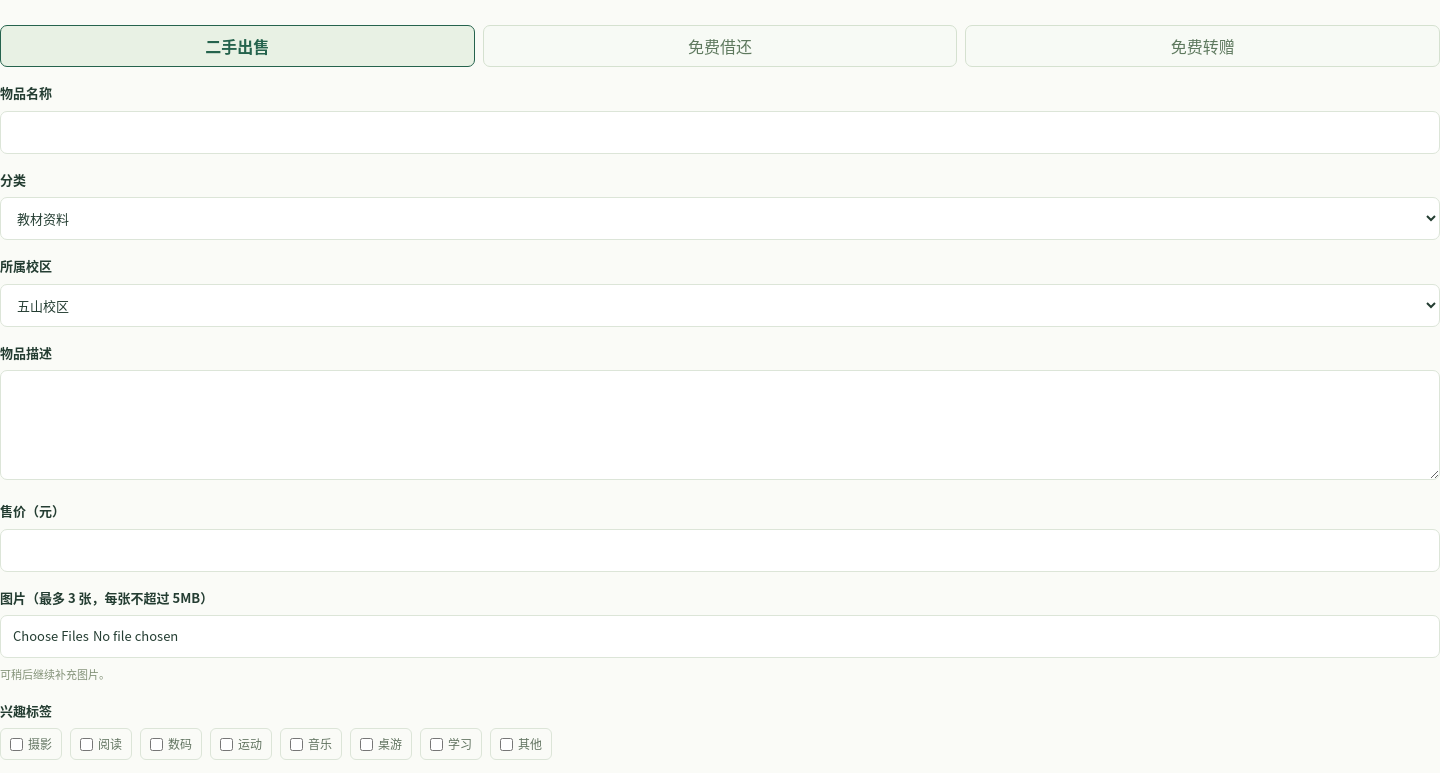
Test: Phase 2 发布表单 › 可以切换出售和免费借还，借还模式不显示租金
Expected: the number field labelled "售价（元）" is shown, [0,528,1439,572]
What coordinates should you click on to do the following:
click the button "免费借还"
I would click on:
 (720, 46)
Its box is [483,25,957,67].
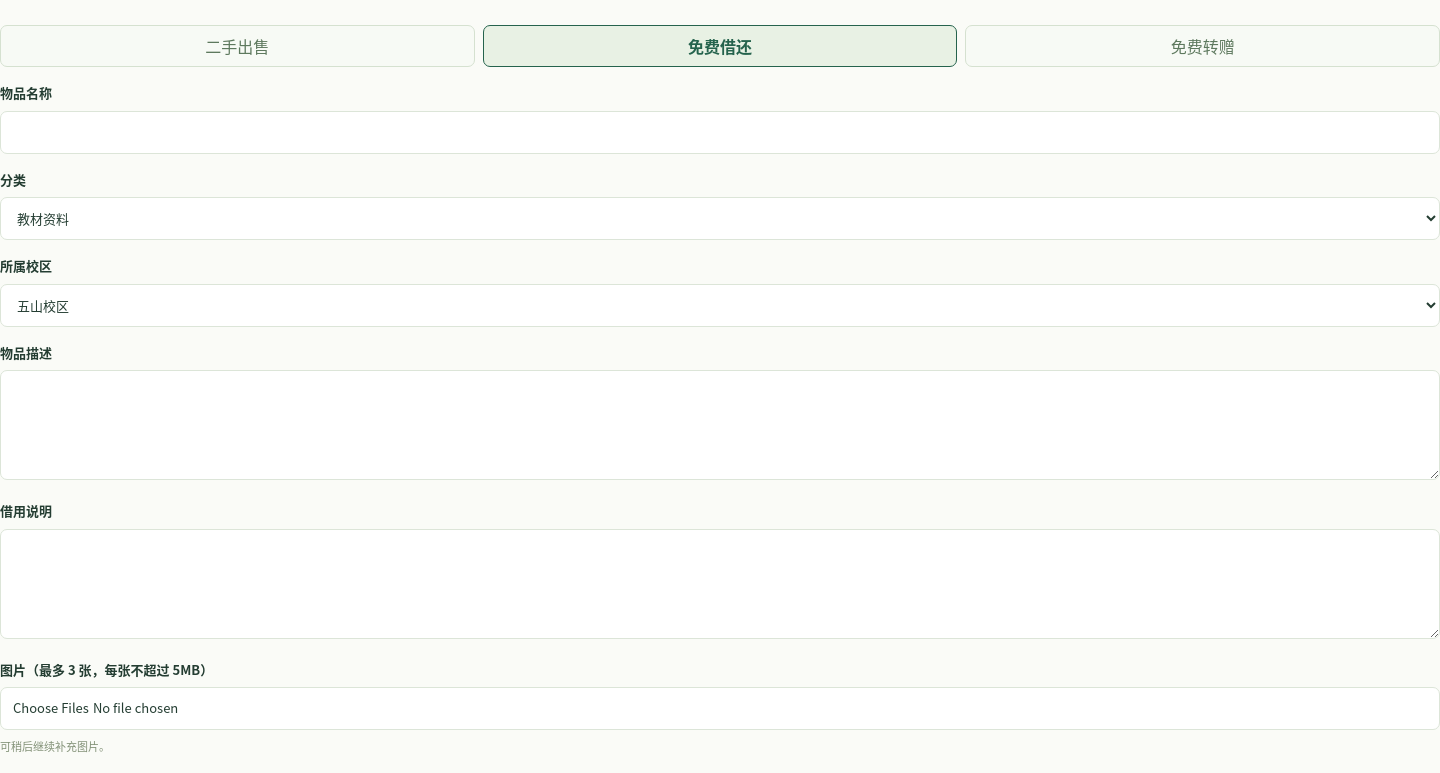
Result: the label labelled "售价（元）" is gone
Result: the text box labelled "借用说明" is shown at [0,528,1439,638]
